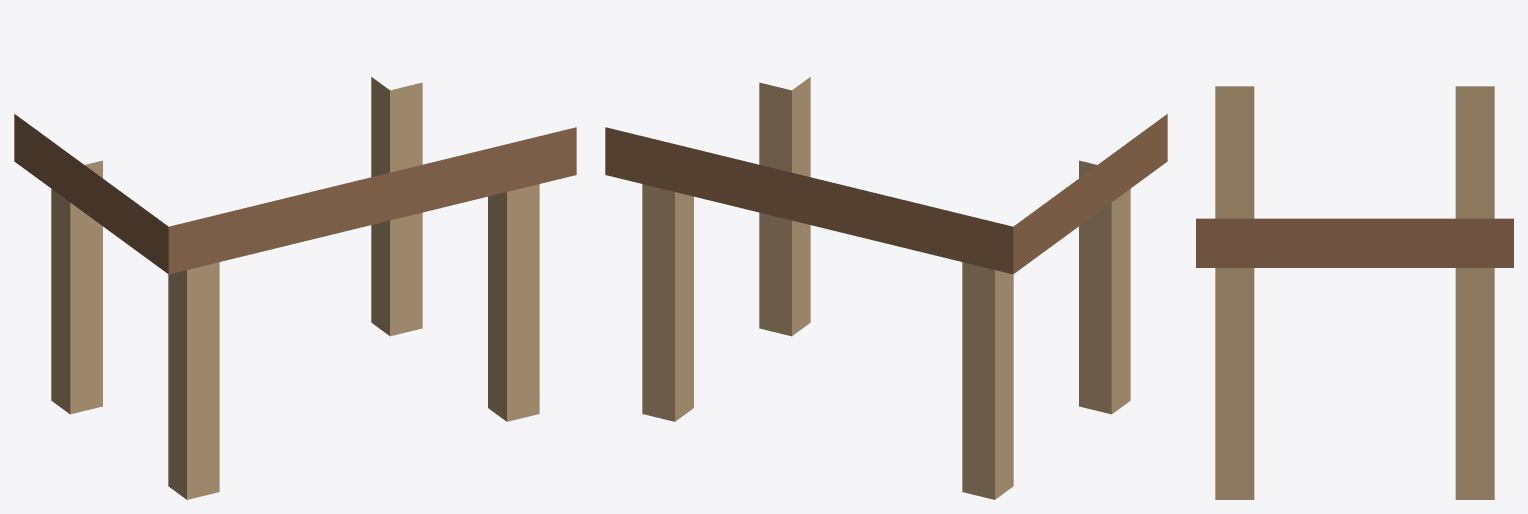
The model's file is catalog-api-test-side-table.glb.
The picture shows the model from 3 angles, left to right: view 1: azimuth 30°, elevation 25°; view 2: azimuth 150°, elevation 25°; view 3: azimuth 270°, elevation 25°; orthographic projection. The views are drawn at different scales.
Parts seen in each view (by area): view 1: Catalog API Test Side Table; view 2: Catalog API Test Side Table; view 3: Catalog API Test Side Table.
Part boxes in pixels (x1,y1,x2,y2): Catalog API Test Side Table: (14,77,576,499); Catalog API Test Side Table: (605,77,1167,499); Catalog API Test Side Table: (1196,86,1513,499).
Bounding box in the file's own units: 1.25 × 0.84 × 0.82.
